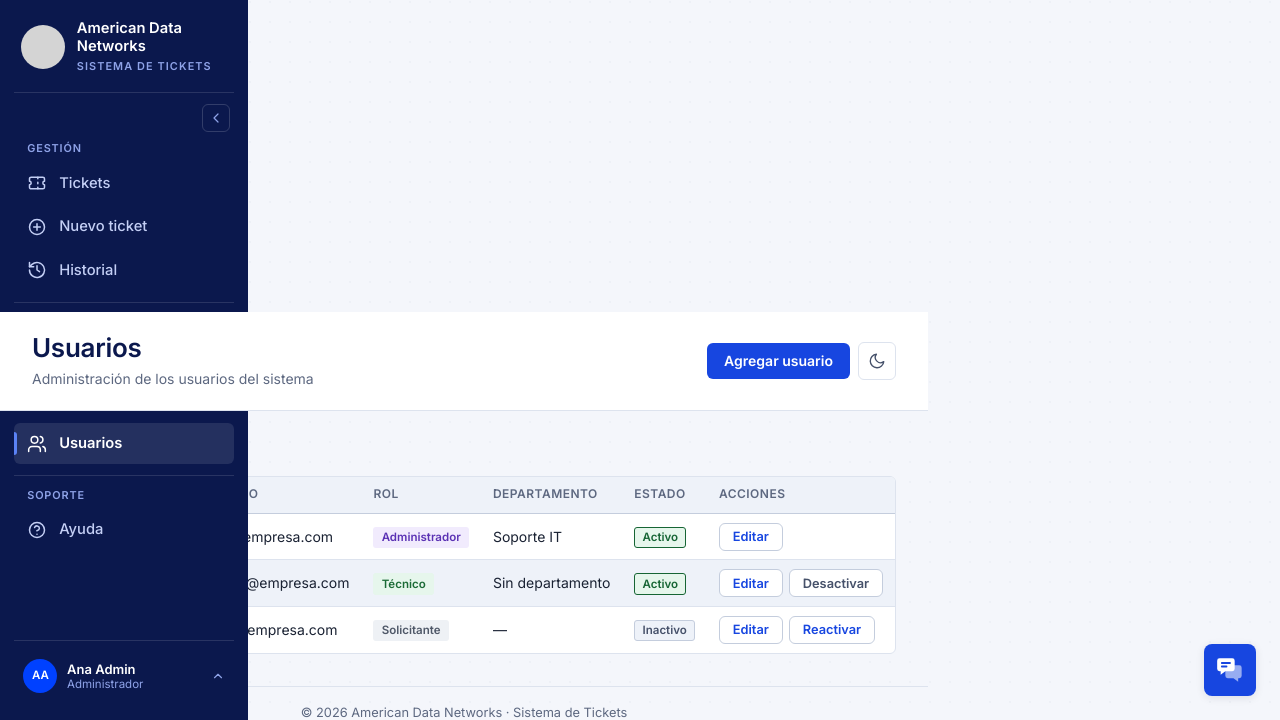
Test case: Usuarios (/usuarios) › 422 sin campo conocido va en un aviso dentro de la ventana
(page scrolled)
Expected: the text "tomas@empresa.com" is shown, left=194, top=560, right=362, bottom=607
Click the button "Agregar usuario": [779, 361] box left=707, top=343, right=850, bottom=379
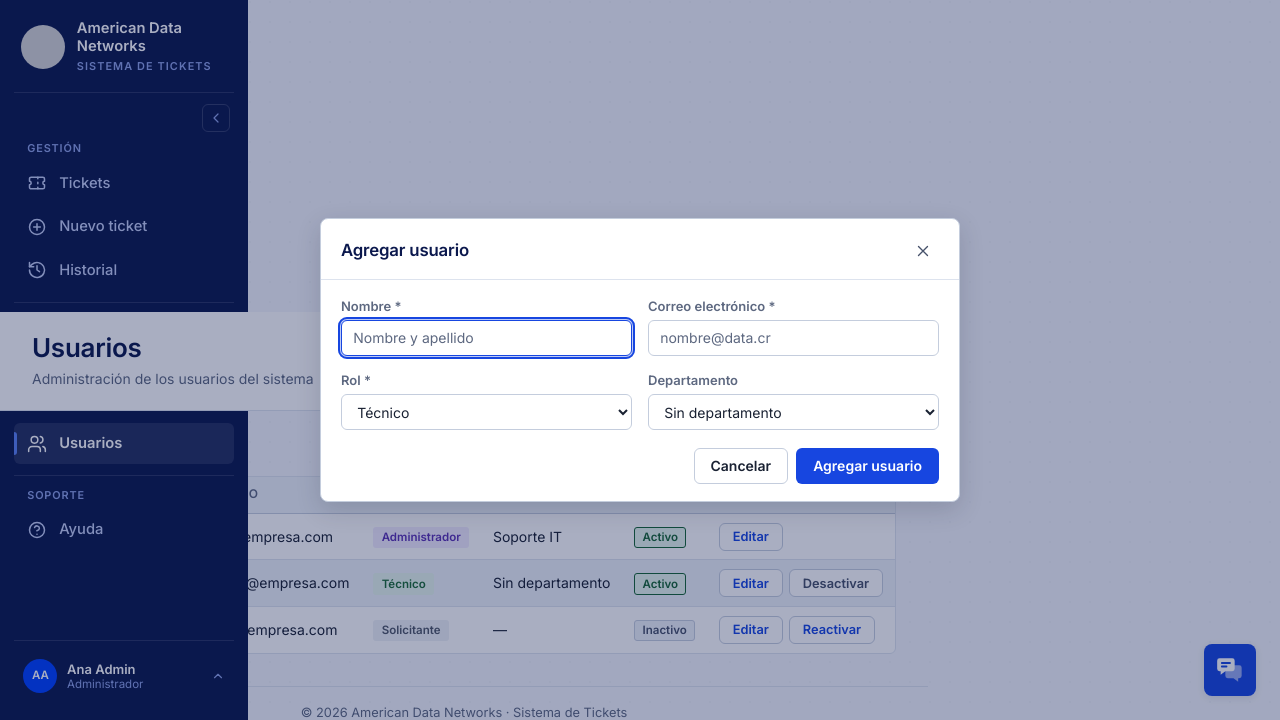
In the field with id "nombre": [486, 338] box left=341, top=320, right=632, bottom=356, type "Ana"
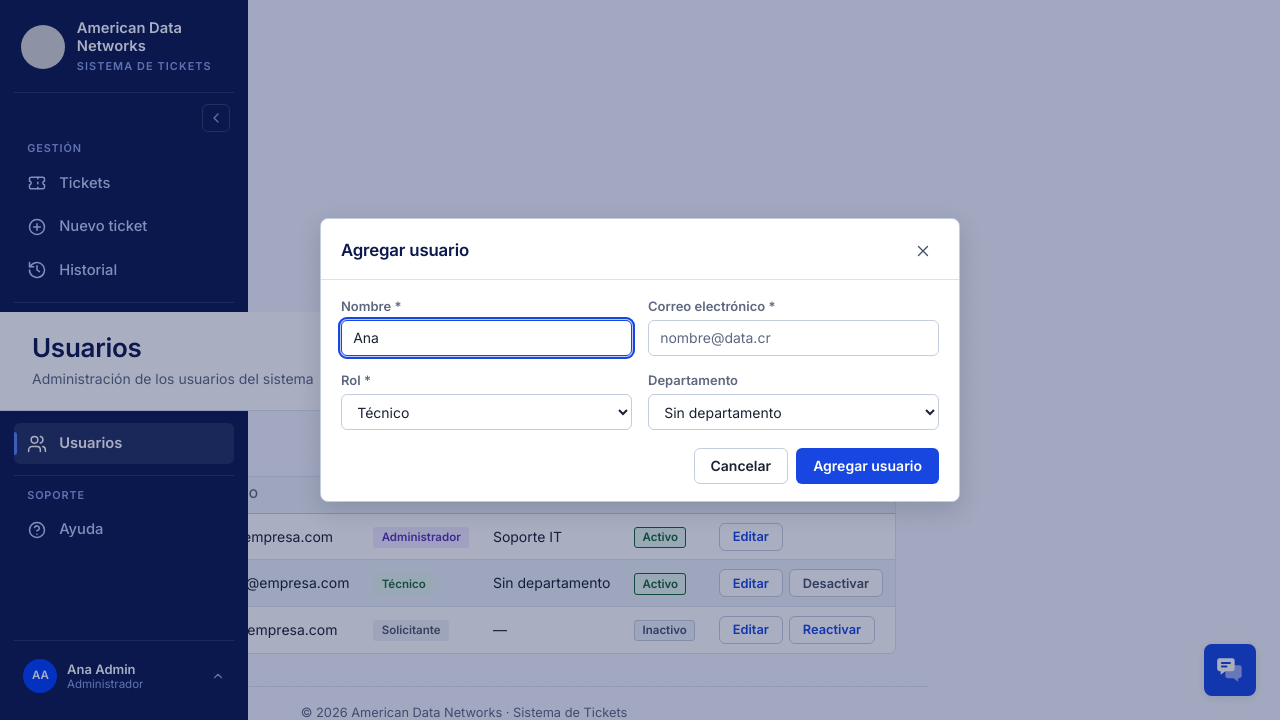
In the field with id "email": [794, 338] box left=648, top=320, right=939, bottom=356, type "ana2@empresa.com"
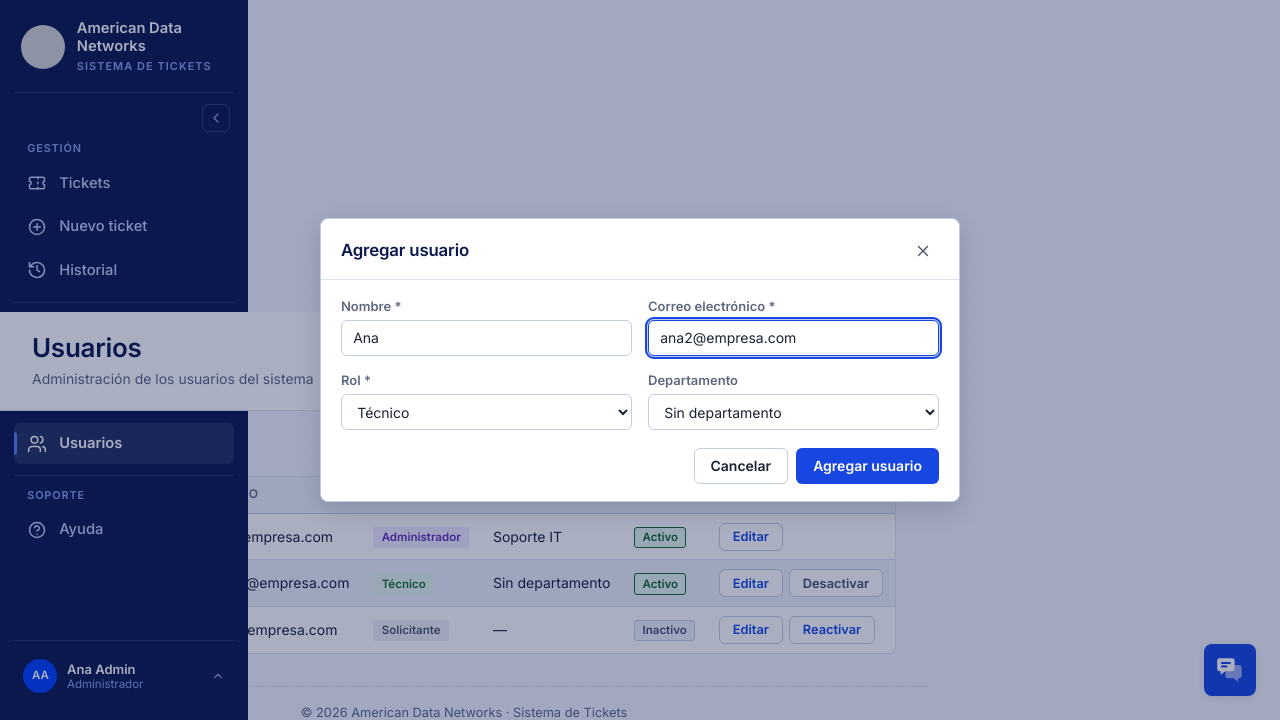
Click the button "Agregar usuario": [868, 466] box left=796, top=448, right=939, bottom=484
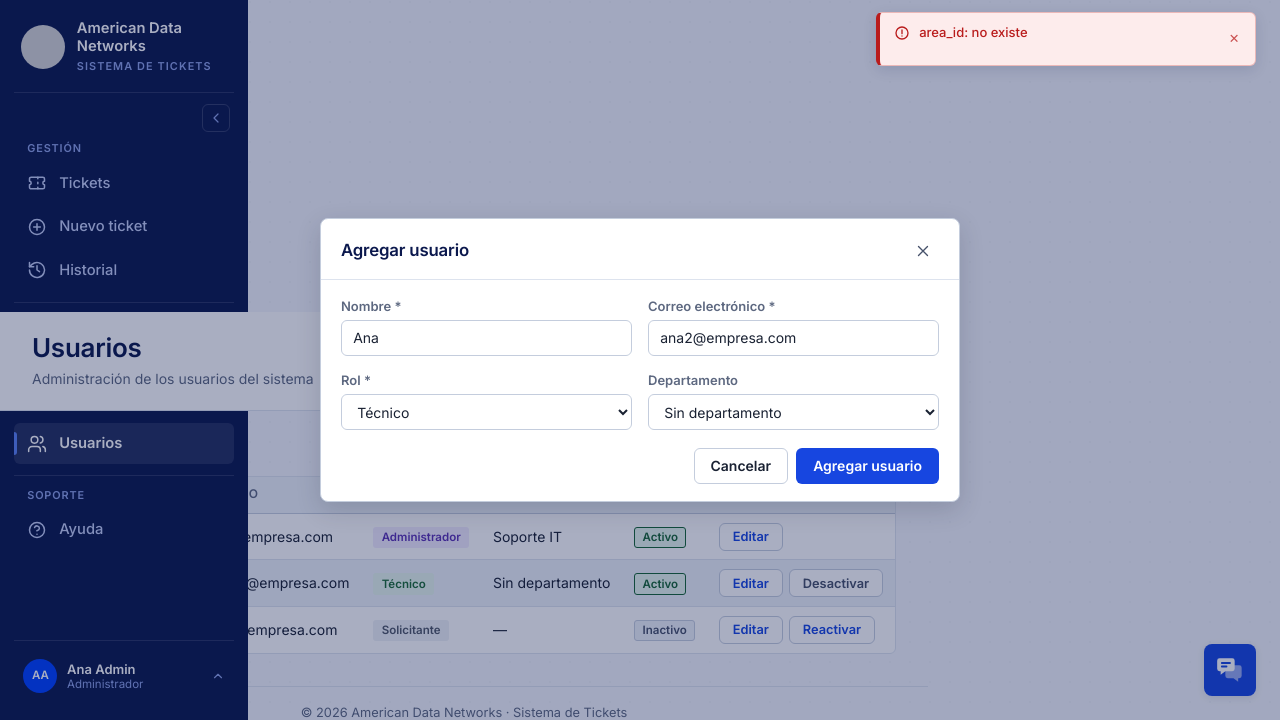
Now the element with id "avisos" shows "area_id: no existe", box left=919, top=24, right=1028, bottom=40
